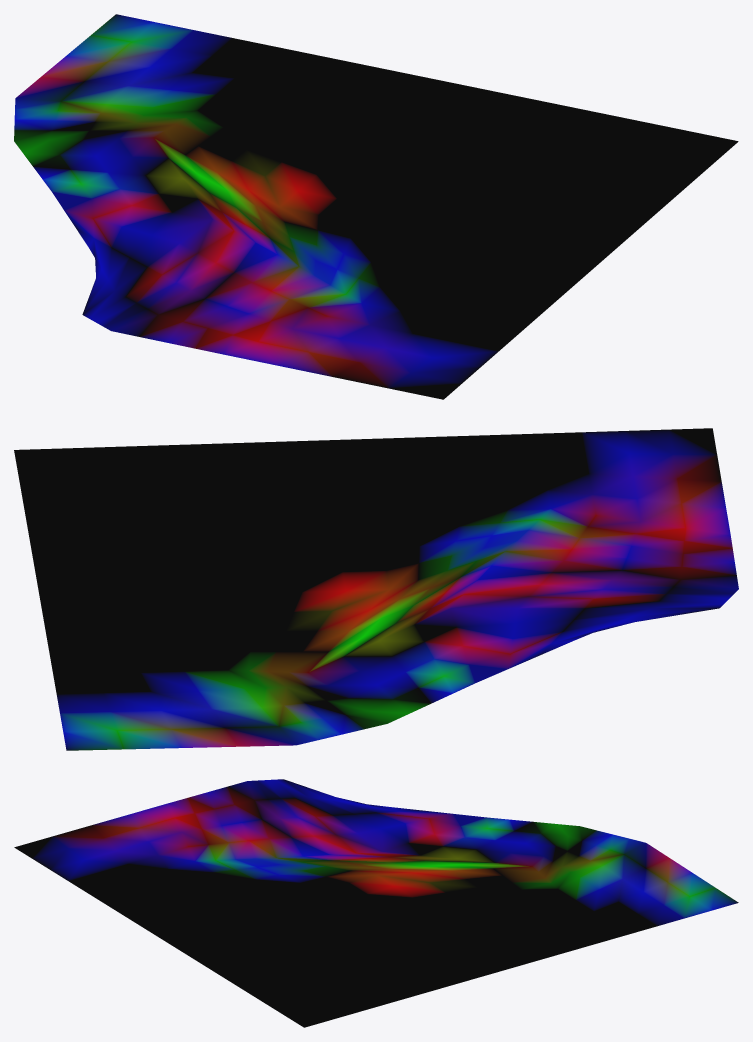
The picture shows the model from 3 angles, top to bottom: view 1: azimuth 30°, elevation 25°; view 2: azimuth 150°, elevation 25°; view 3: azimuth 270°, elevation 25°; orthographic projection. The views are drawn at different scales.
Parts seen in each view (by area): view 1: Sprite__5_; view 2: Sprite__5_; view 3: Sprite__5_.
Boxes of the visible parts, x1,y1,x2,y2 form: Sprite__5_: (14,14,738,399); Sprite__5_: (14,428,738,750); Sprite__5_: (14,779,738,1027).
Size of the model in its own units: 3703 by 5.63e-08 by 4563.
